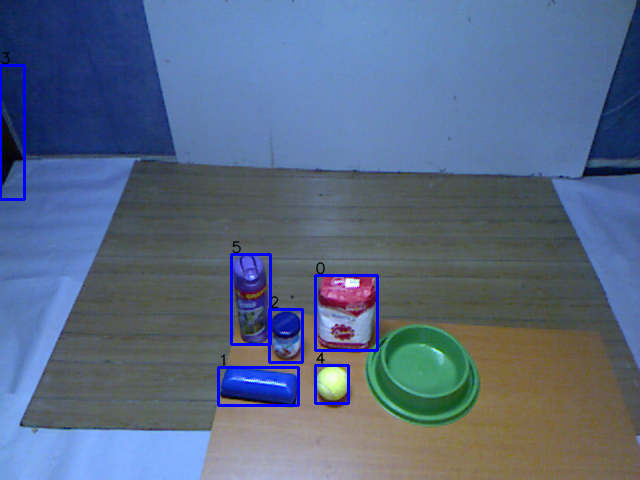aerosol: (227, 251, 279, 349)
borrador: (216, 361, 303, 411)
crema: (266, 308, 306, 362)
harina: (314, 268, 381, 356)
pelota: (311, 363, 351, 407)
platoperro: (360, 322, 483, 426)
